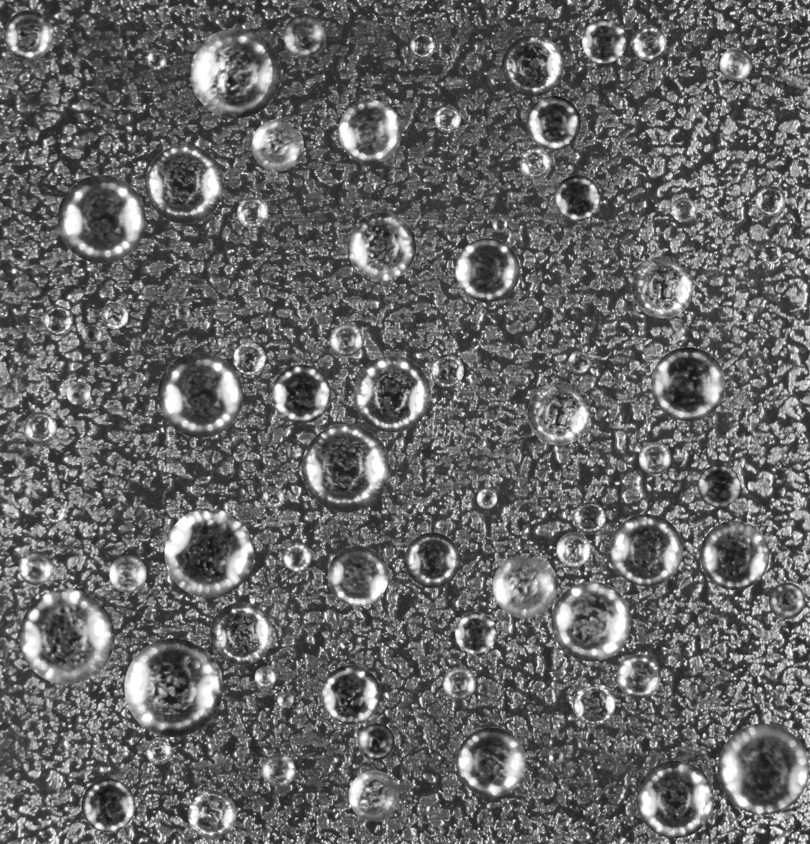Bubble: (124, 638, 222, 737), (19, 589, 114, 684), (717, 723, 809, 814), (190, 28, 280, 118), (164, 508, 253, 597), (301, 424, 390, 512), (57, 175, 145, 263), (157, 352, 242, 437), (551, 581, 631, 661), (145, 144, 223, 223), (636, 760, 714, 838), (353, 355, 430, 432), (651, 347, 725, 421), (610, 514, 683, 586), (456, 727, 526, 797), (700, 520, 769, 590), (347, 212, 416, 280), (492, 553, 557, 618), (455, 238, 519, 302), (338, 99, 401, 163), (527, 382, 590, 445), (210, 602, 272, 665), (632, 256, 694, 318), (502, 35, 563, 96), (327, 545, 388, 606), (321, 665, 380, 724), (272, 364, 330, 423), (404, 532, 460, 588), (526, 95, 580, 150), (81, 778, 135, 832), (251, 119, 303, 171), (348, 770, 399, 821), (3, 10, 53, 59), (188, 790, 236, 839), (554, 175, 600, 221), (582, 18, 626, 63), (617, 654, 661, 698), (283, 13, 326, 56), (697, 464, 740, 507), (573, 683, 615, 725), (455, 612, 496, 653), (768, 582, 805, 619), (109, 555, 146, 592), (358, 723, 394, 760), (556, 532, 590, 566), (632, 26, 666, 60), (18, 551, 52, 585), (262, 753, 295, 786), (330, 323, 363, 356), (23, 411, 56, 444), (719, 48, 752, 80), (431, 354, 463, 387), (638, 442, 671, 474), (443, 667, 475, 700), (573, 502, 605, 534), (233, 342, 265, 374), (237, 196, 268, 228), (520, 148, 551, 179), (755, 186, 785, 215), (43, 306, 72, 335), (283, 543, 311, 571), (101, 301, 128, 328), (434, 106, 461, 132), (145, 738, 171, 764), (671, 197, 696, 222), (410, 33, 435, 58), (66, 381, 90, 405), (254, 666, 276, 688), (262, 486, 284, 508), (568, 351, 590, 373), (44, 501, 65, 523), (146, 49, 167, 70), (760, 242, 781, 263), (81, 323, 101, 344), (476, 488, 497, 508), (735, 306, 753, 324), (277, 691, 293, 708), (549, 750, 564, 765), (492, 217, 507, 232), (175, 305, 189, 319)
